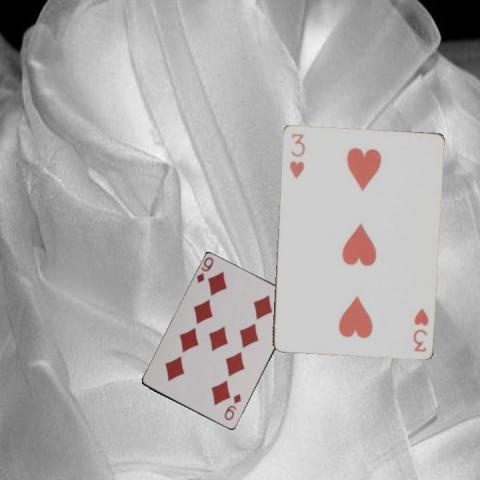3h: (286, 130, 307, 179), (409, 305, 430, 353)
9d: (221, 391, 243, 422), (194, 254, 215, 285)
